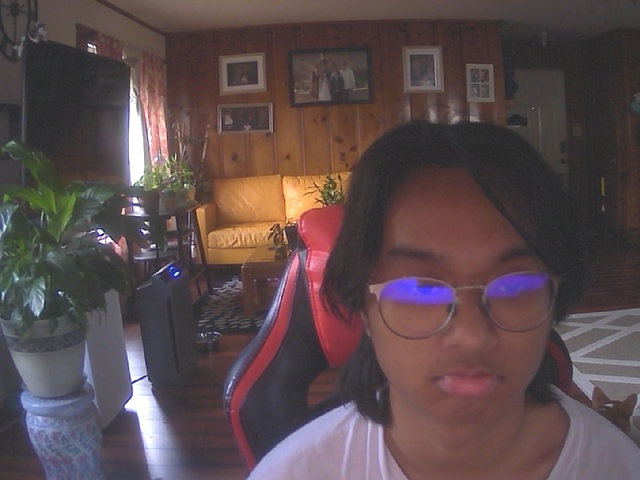sad: (354, 133, 571, 434)
